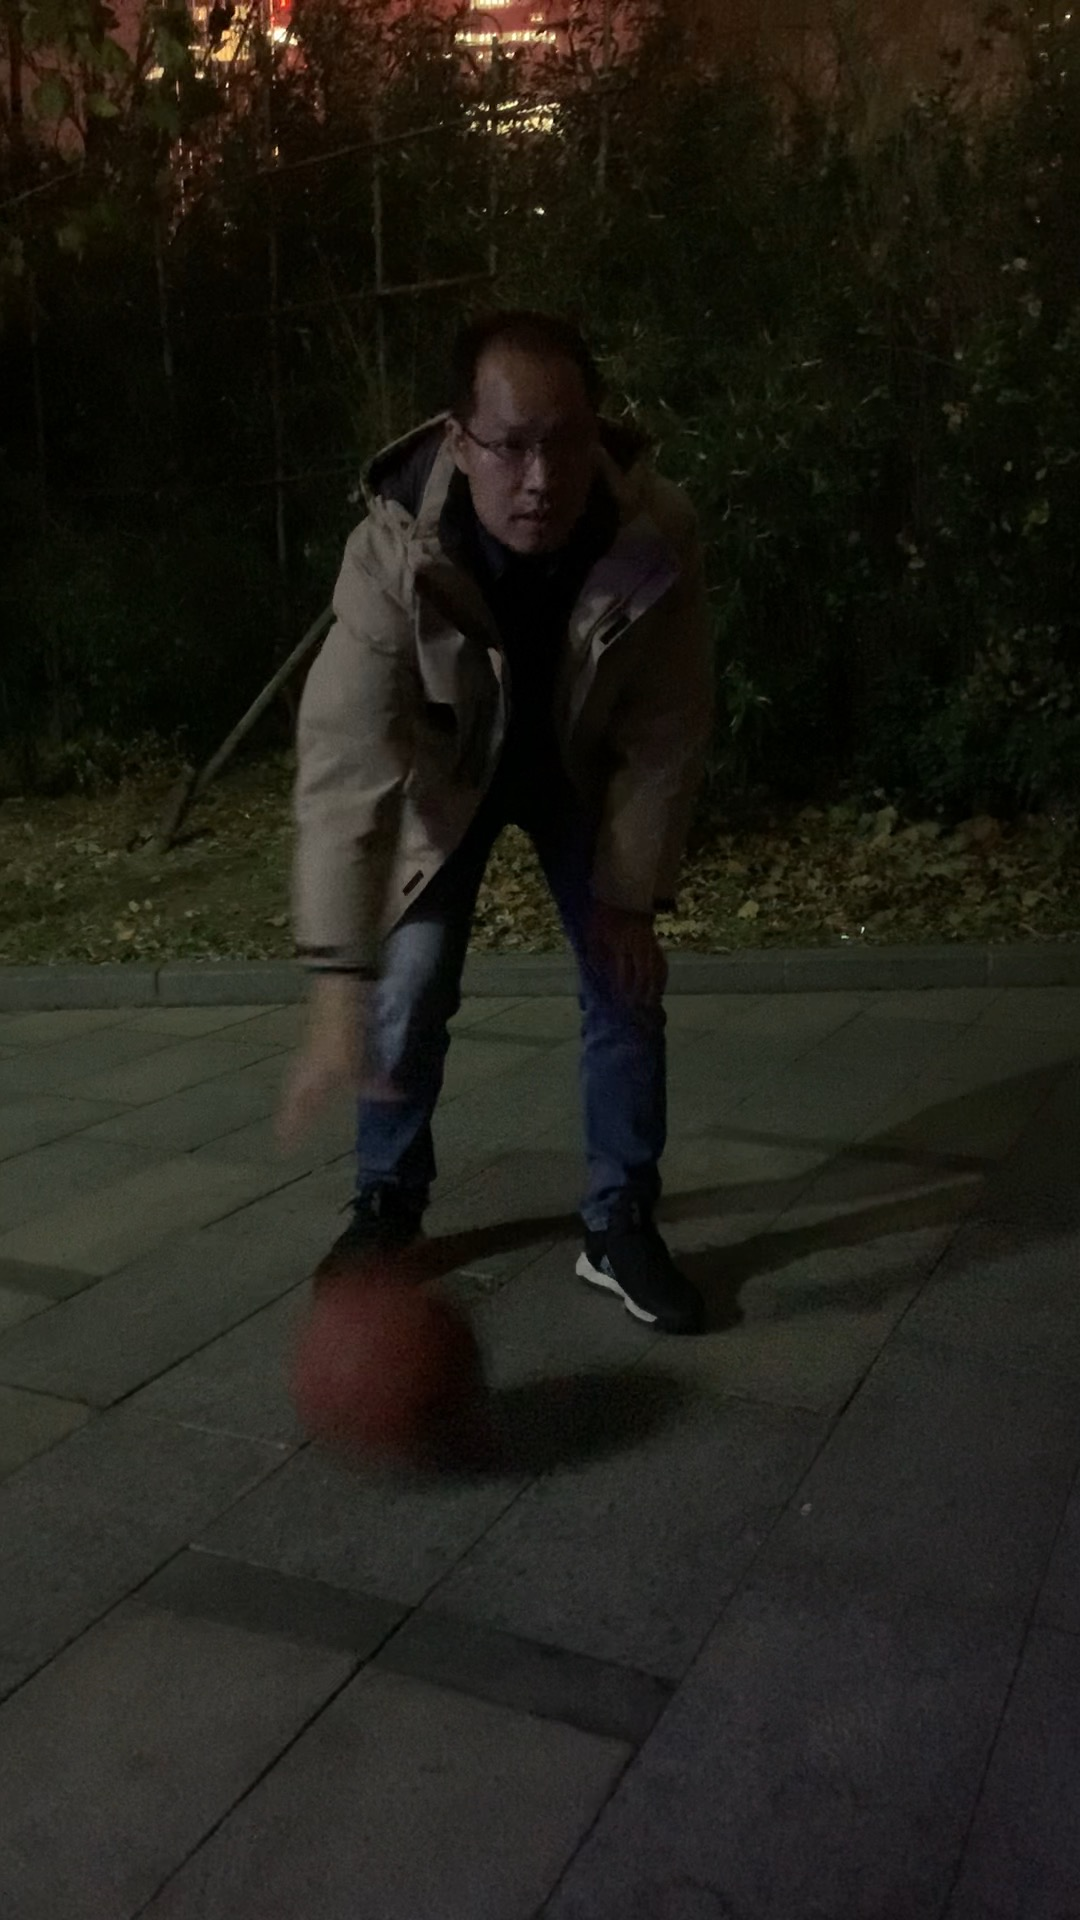ball: (289, 1278, 498, 1491)
